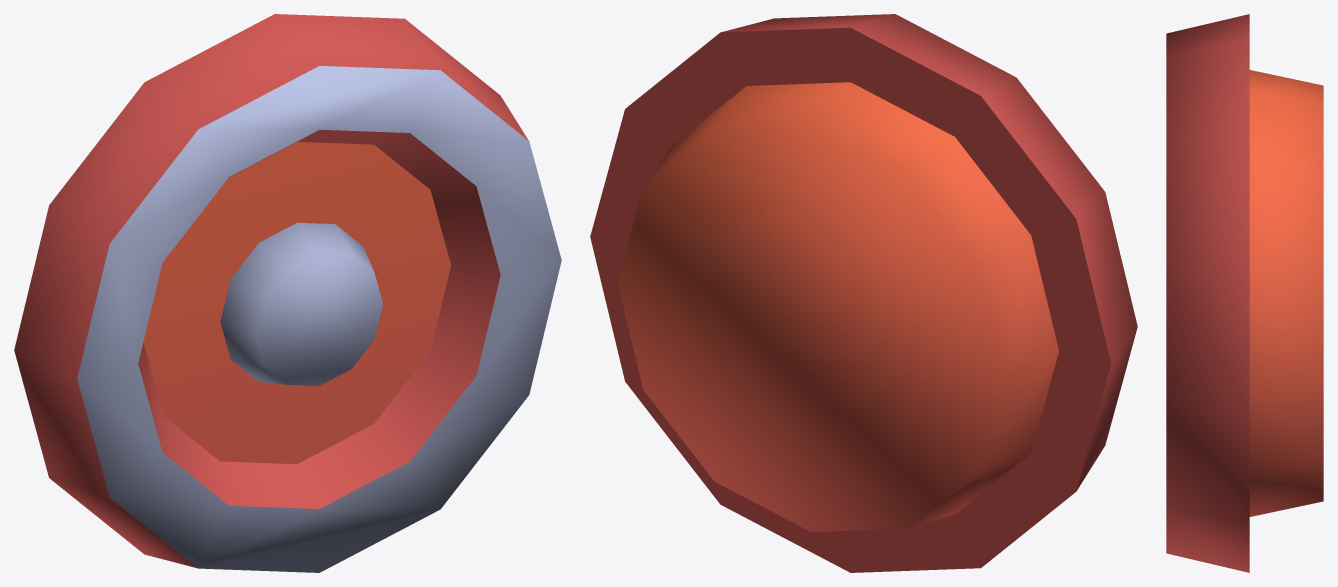
File: armor_100.glb
The picture shows the model from 3 angles, left to right: view 1: azimuth 30°, elevation 25°; view 2: azimuth 150°, elevation 25°; view 3: azimuth 270°, elevation 25°; orthographic projection. The views are drawn at different scales.
Parts seen in each view (by area): view 1: armor_100; view 2: armor_100; view 3: armor_100.
Part boxes in pixels (x1=…): armor_100: x1=14, y1=14, x2=561, y2=572; armor_100: x1=590, y1=14, x2=1137, y2=572; armor_100: x1=1166, y1=14, x2=1323, y2=572.
Bounding box in the file's own units: 0.5676 × 0.5676 × 0.1592.
1 material, 1 textured.
